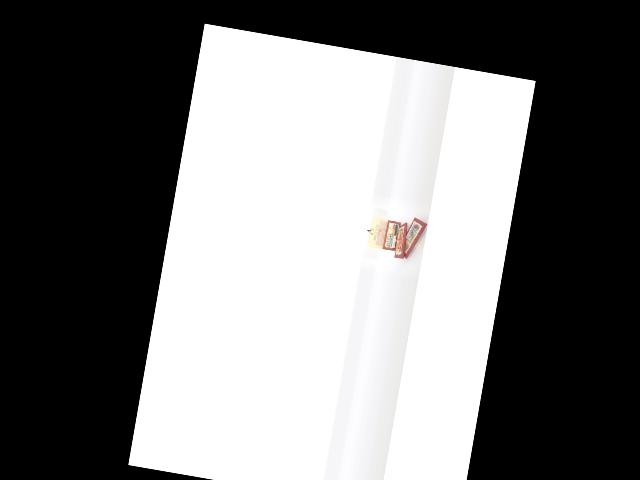chocolate: (399, 207, 432, 263)
